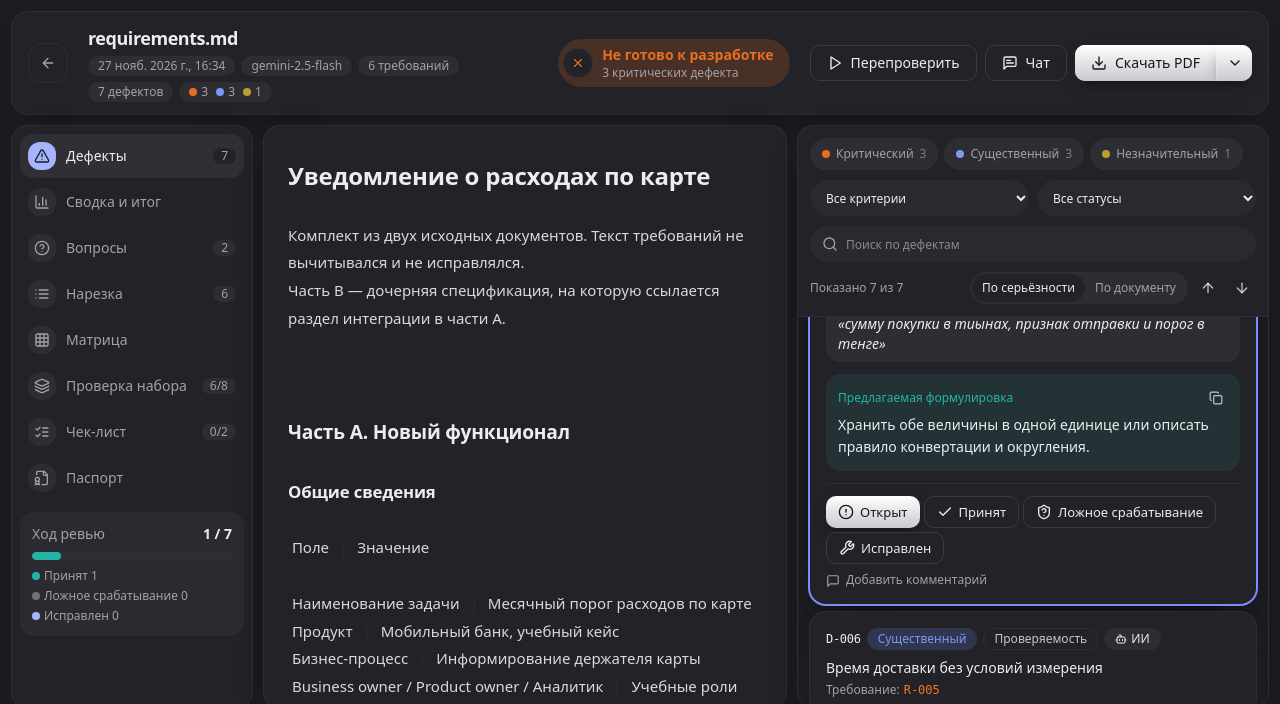
Report screen › marks a finding as false positive with a comment
The width and height of the screenshot is (1280, 704).
(page scrolled)
Click the button "Ложное срабатывание" at (1120, 512), box x1=1023 y1=496 x2=1216 y2=528
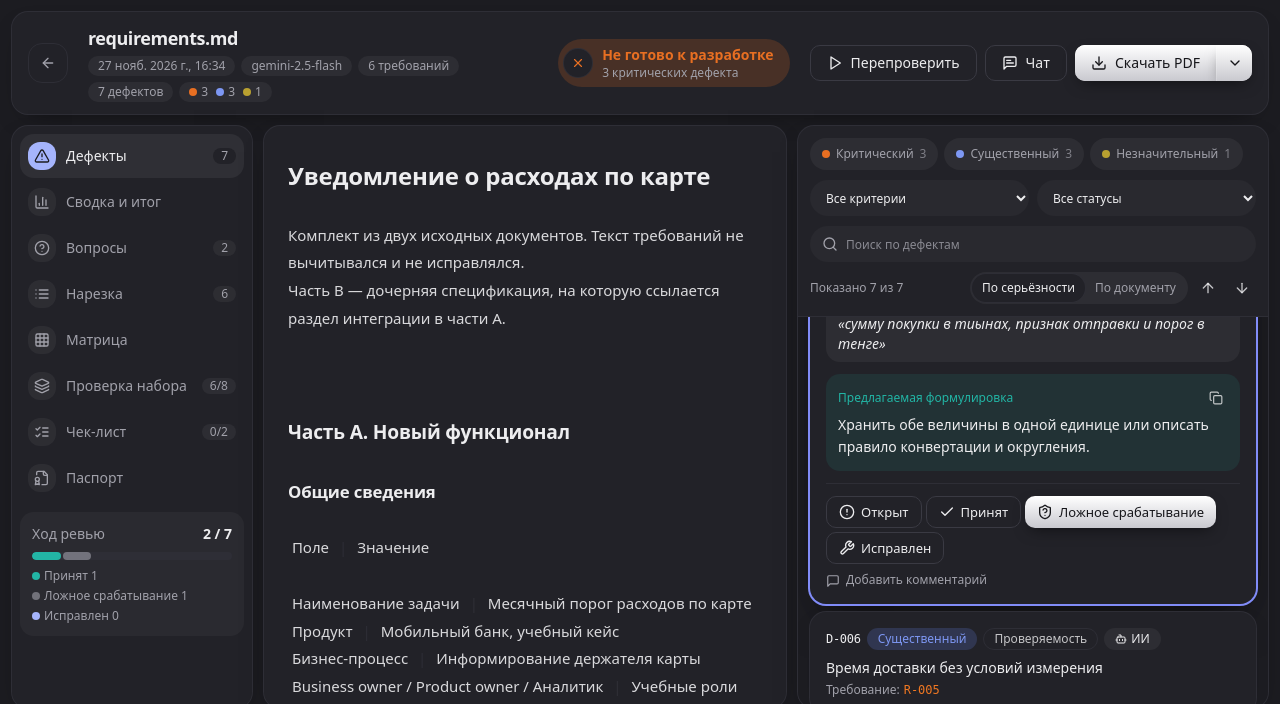
Click the button "Добавить комментарий" at (917, 580), box x1=826 y1=572 x2=1240 y2=588
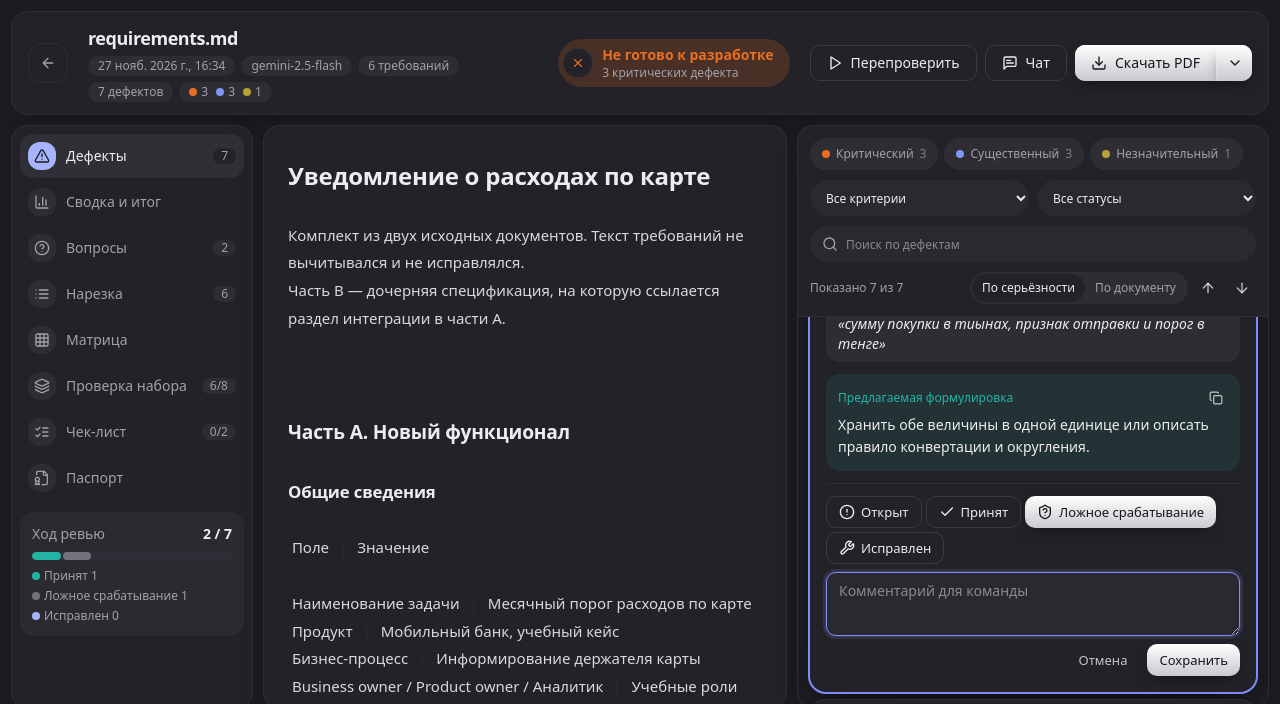
Type "Так и задумано" into the text box with placeholder "Комментарий для команды" at (1033, 604), box x1=826 y1=572 x2=1240 y2=636
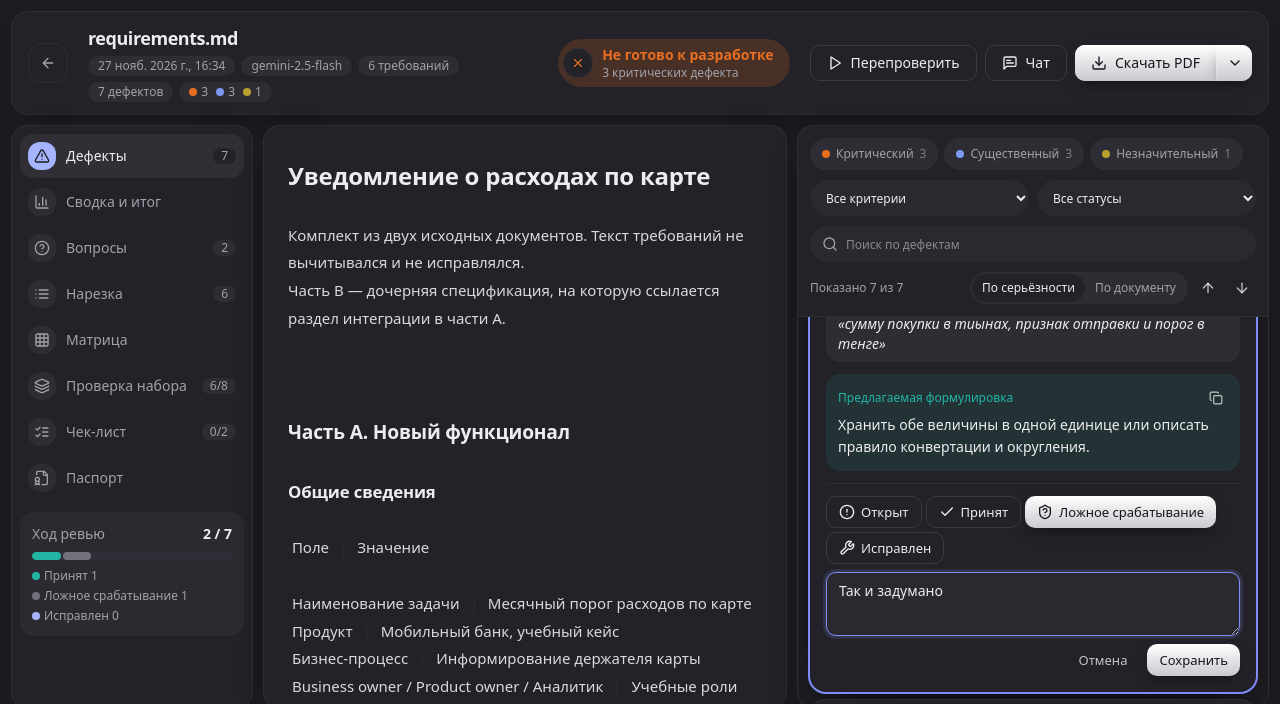
Click the button "Сохранить" at (1194, 660), box x1=1148 y1=644 x2=1240 y2=676
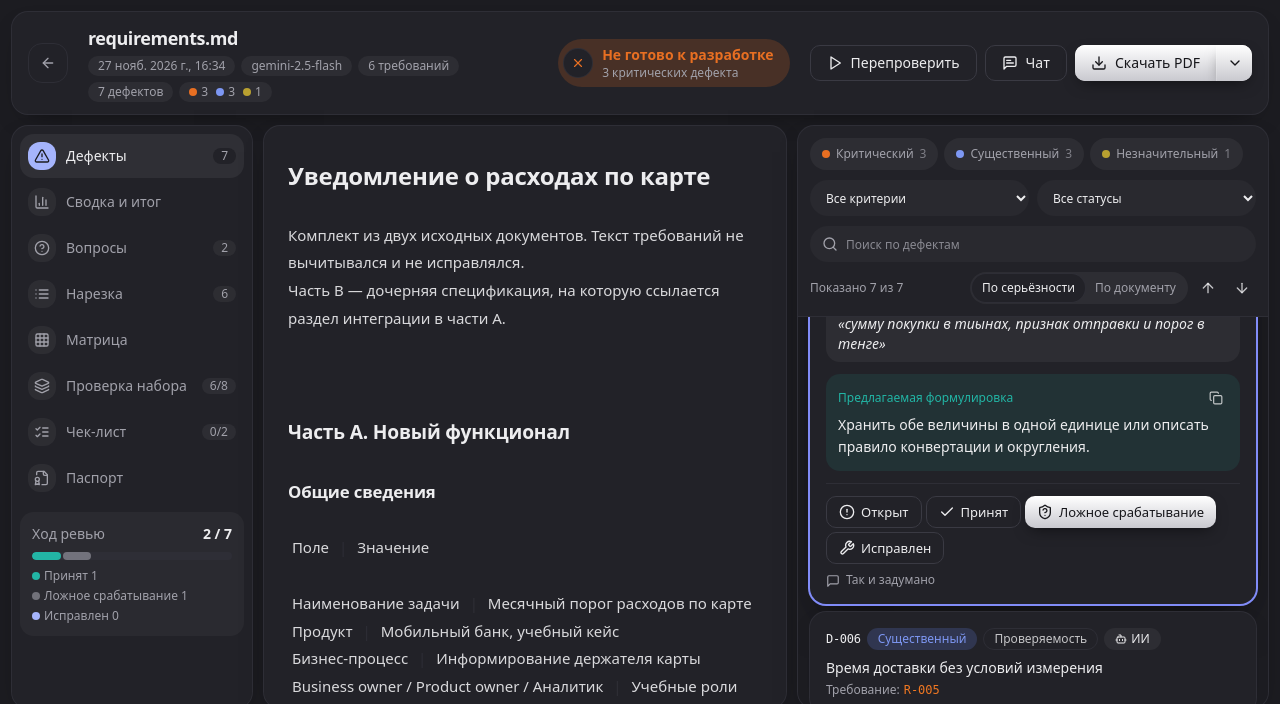
Now the button "Так и задумано" is shown, box x1=826 y1=572 x2=1240 y2=588
